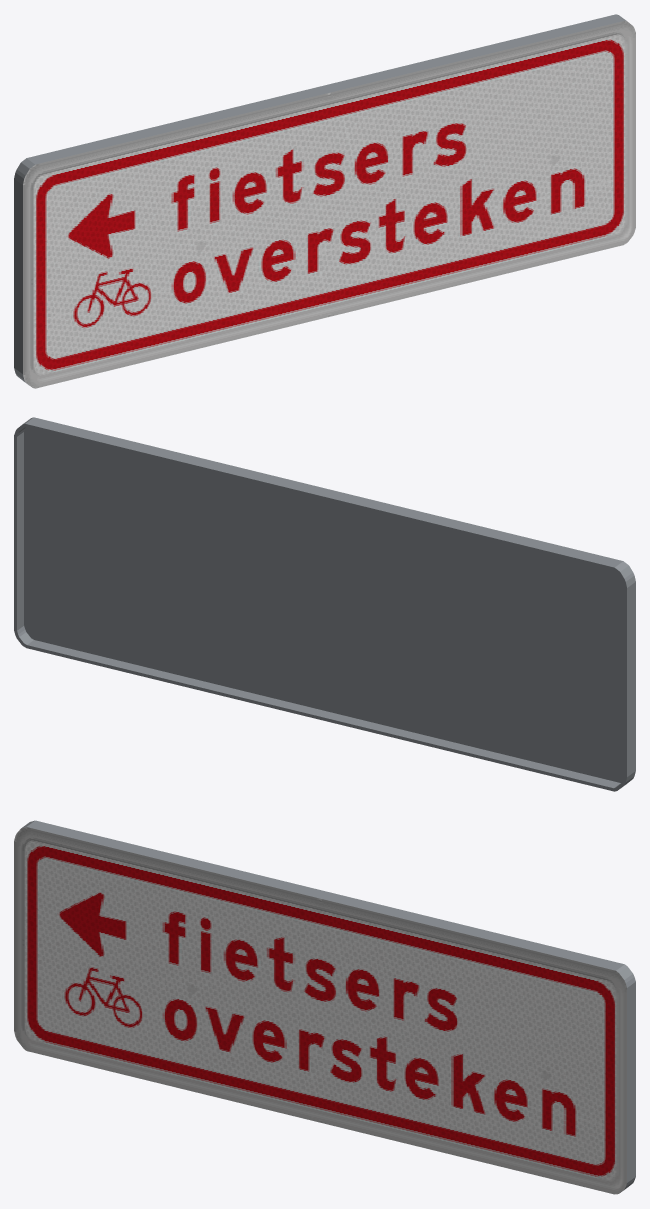
3 renders of one model, top to bottom at view 1: azimuth 30°, elevation 25°; view 2: azimuth 150°, elevation 25°; view 3: azimuth 330°, elevation 25°, orthographic.
Visible parts, largest first — view 1: cat_834278c19d7a2dd0; view 2: cat_834278c19d7a2dd0; view 3: cat_834278c19d7a2dd0.
Boxes of the visible parts, x1,y1,x2,y2 form: cat_834278c19d7a2dd0: [14, 14, 635, 388]; cat_834278c19d7a2dd0: [14, 417, 635, 791]; cat_834278c19d7a2dd0: [14, 820, 635, 1194].
Size of the model in its own units: 0.6 by 0.015 by 0.2095.
Materials: 2 (1 with a texture image).
